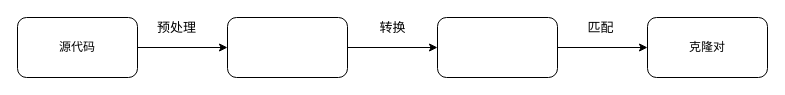
Image size: 785x95. Some labels were removed from this diagram. Here are the shapes that lost their labels. From the top down, the centre of each, then its label:
(287,47): 代码单元 （类、函数、块）
(497,47): 中间表示 （token、AST、PDG）
